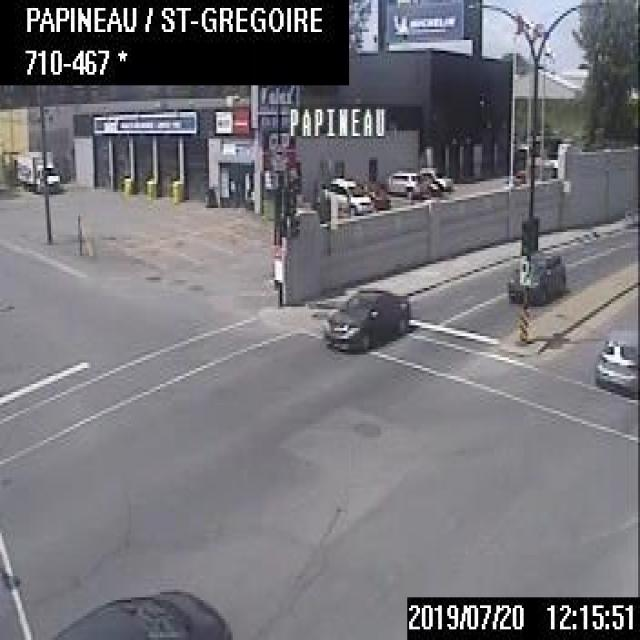vehicle: (49, 584, 233, 637), (320, 283, 409, 349), (593, 323, 638, 400), (507, 248, 564, 301), (12, 143, 60, 194), (321, 172, 372, 216), (381, 167, 422, 200), (415, 162, 450, 193), (353, 178, 388, 208)
